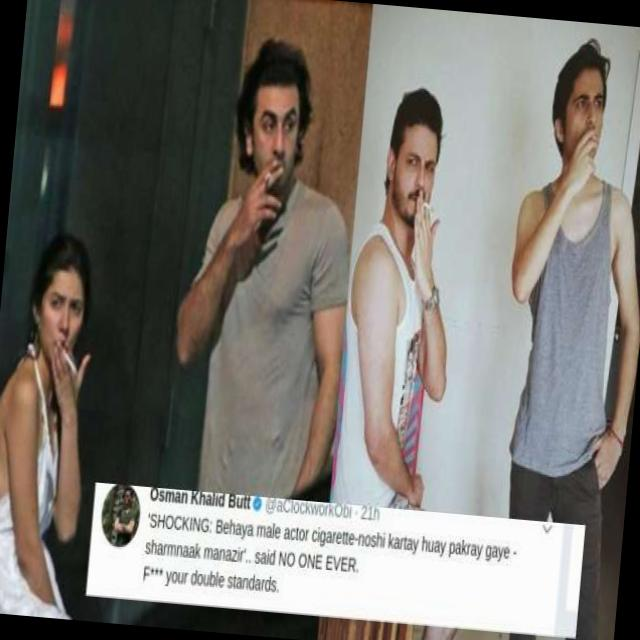smoke: (58, 344, 82, 378), (262, 162, 282, 185), (418, 190, 434, 216), (590, 131, 600, 153)
